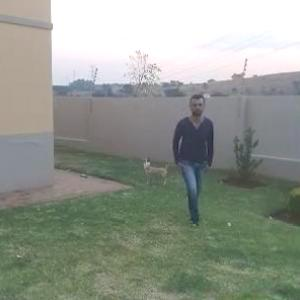follow: (169, 90, 214, 228)
